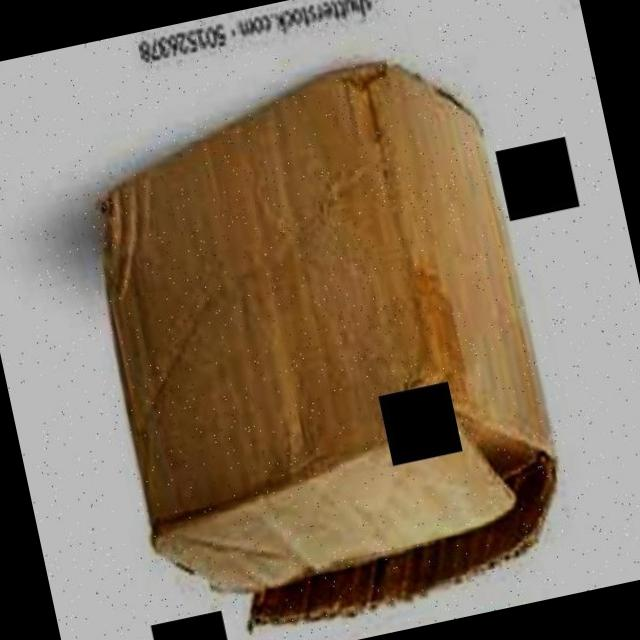box: (54, 33, 583, 640)
